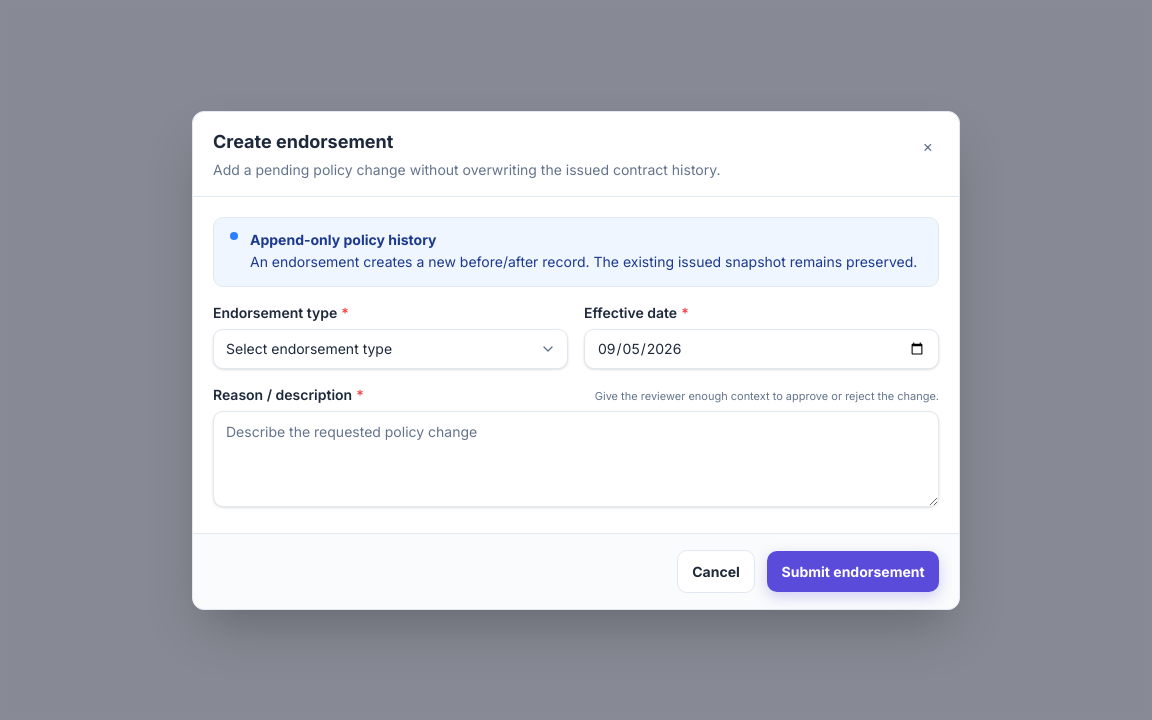
Test: PolicyEndorsementModal › loads configured endorsement types and reveals a type-specific premium field
The width and height of the screenshot is (1152, 720).
Step 1. Select "Premium change" in the dropdown labelled "Endorsement type*" → (390, 348), box [213,328,568,368]
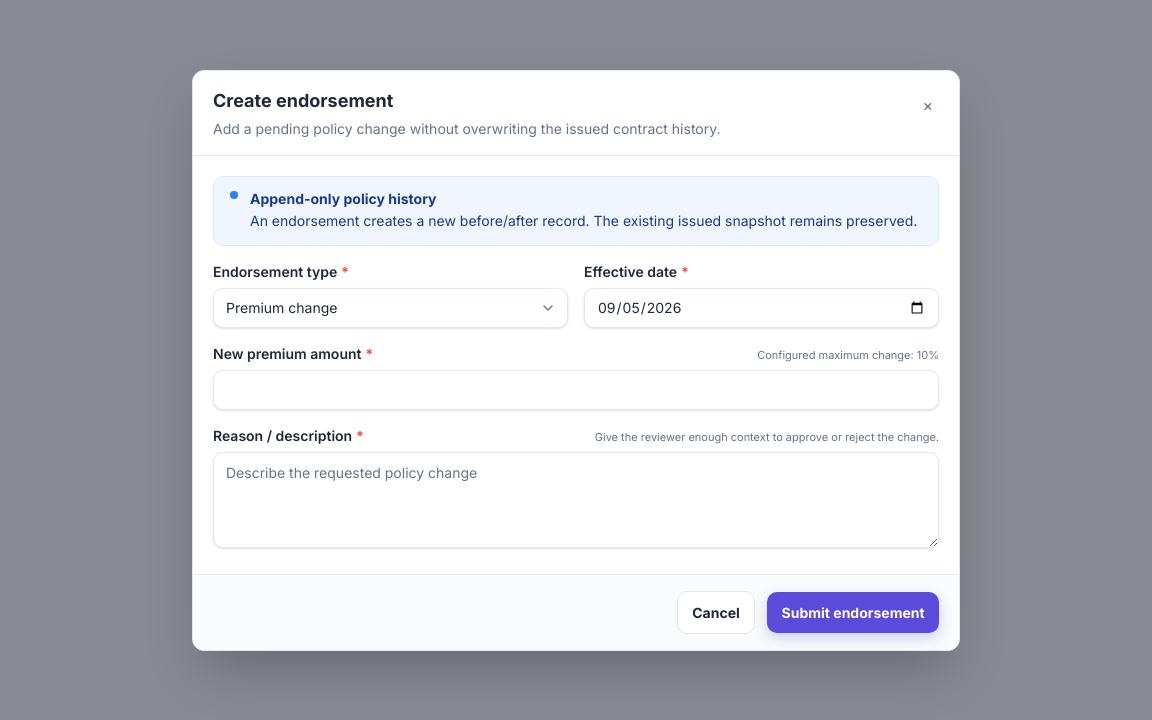
Check: the number field labelled "New premium amount*" is shown, box [213,370,939,410]
Check: the text "Configured maximum change: 10%" is shown, box [757,346,939,363]
